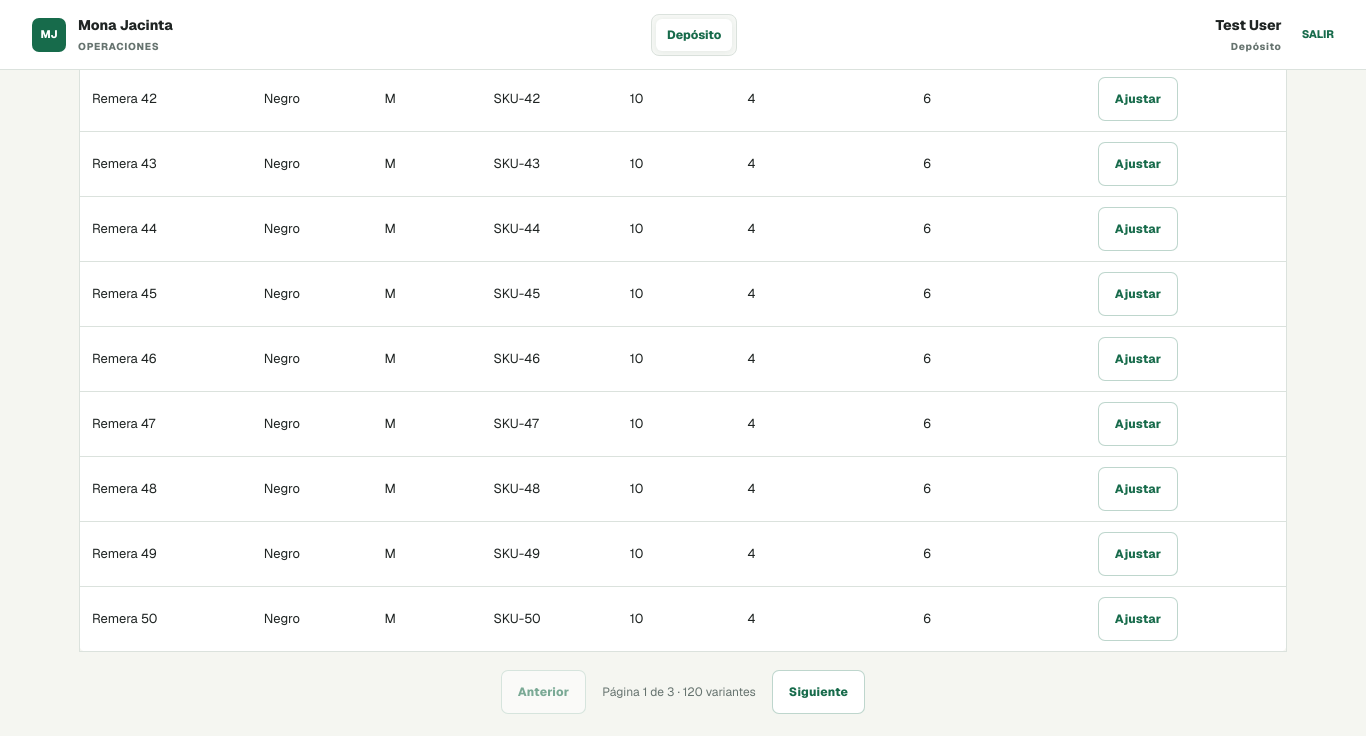
Test: Depósito (WAREHOUSE-MVP) › stock list › W09 paginates with the real total
This screenshot has width=1366, height=736.
(page scrolled)
Expected: the text "Página 1 de 3 · 120 variantes" is shown, top-left (602, 683), bottom-right (756, 701)
Expected: the button "Anterior" is disabled, top-left (501, 670), bottom-right (586, 714)
Click the button "Siguiente".
click(818, 692)  # box top-left (772, 670), bottom-right (865, 714)
(page scrolled)
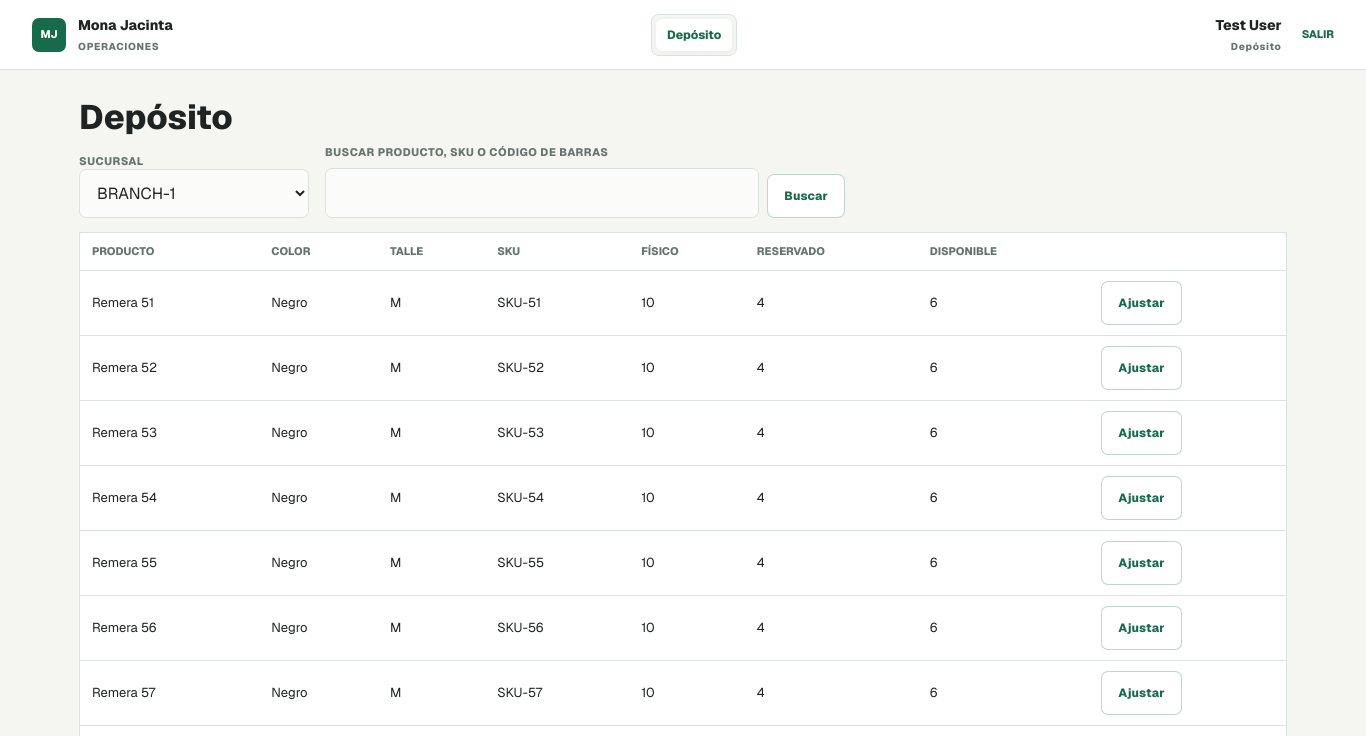
Result: the text "Remera 51" is shown at top-left (80, 270), bottom-right (259, 335)
